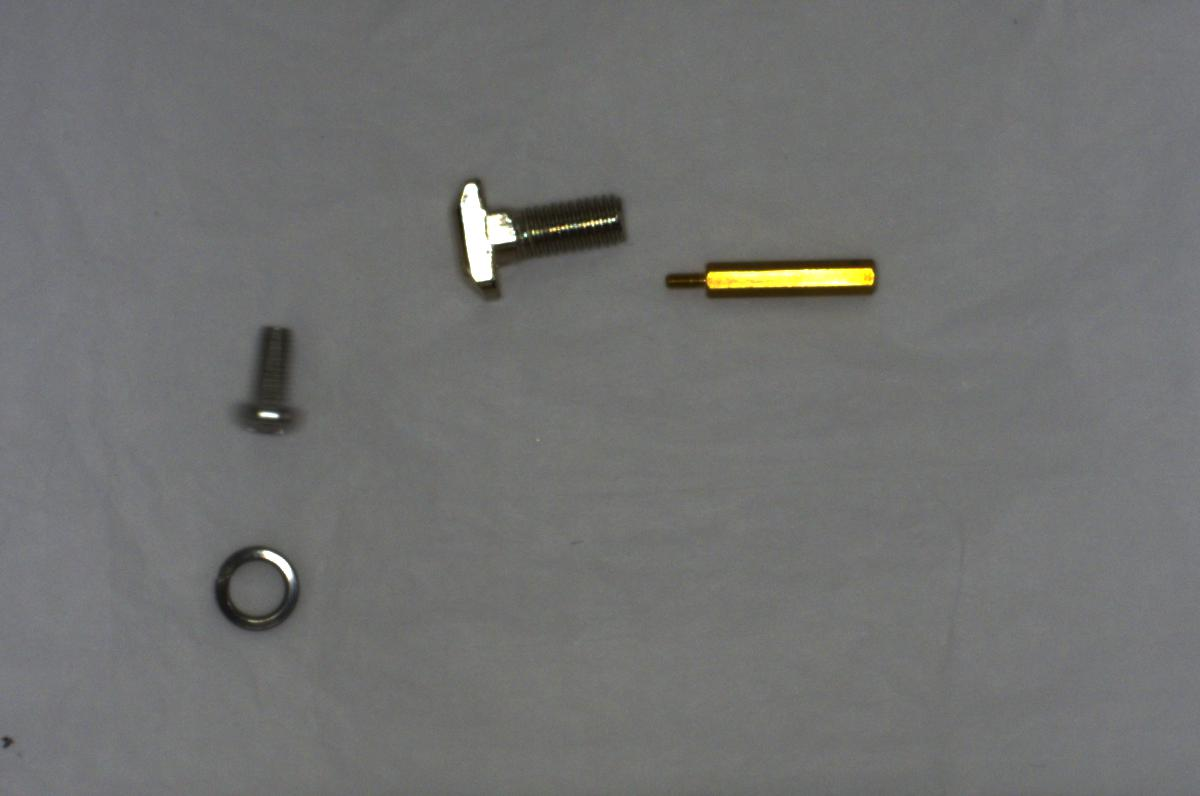Hexagon pillar: (658, 249, 885, 303)
Round head screw: (232, 318, 308, 441)
Spring washer: (202, 540, 307, 632)
T-shaped screw: (442, 167, 630, 303)
